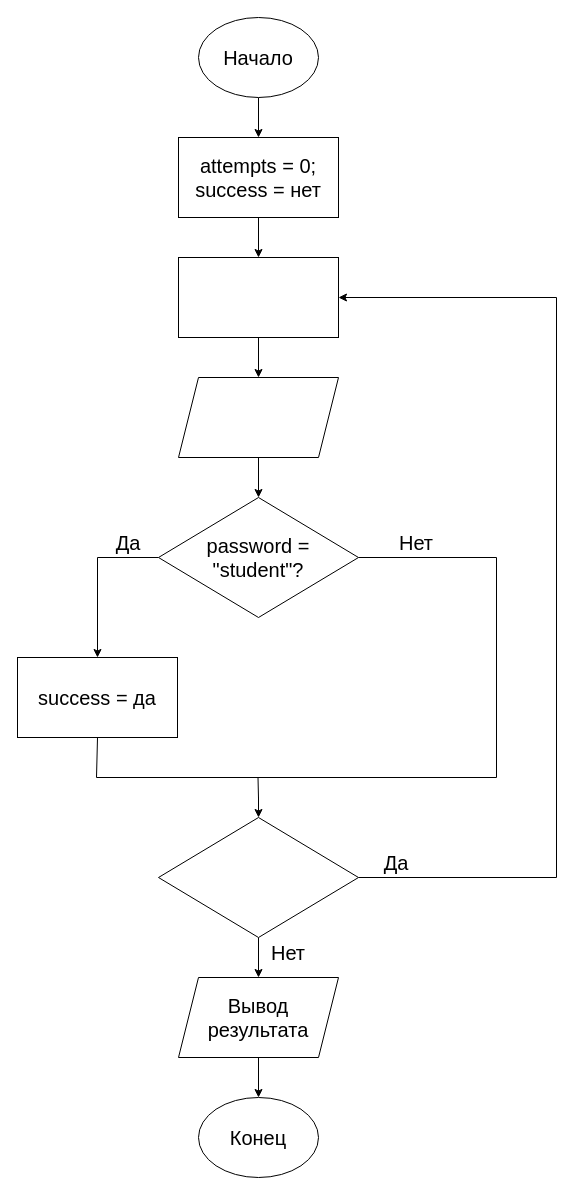
Some shapes in this 582 by 1195 pixel diagram are drawn without their labels. Each missing label, with the centre of its shape:
"attempts < 3 И success = нет?" goes at (x=258, y=877).
"attempts = attempts + 1" goes at (x=258, y=297).
"Ввод password" goes at (x=258, y=417).
